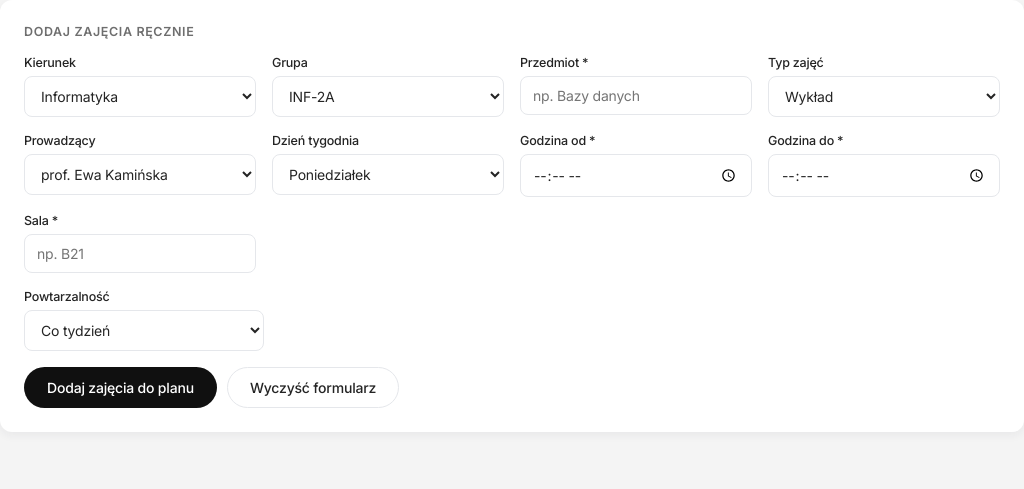
Test: ManualZajeciaForm › 'Wyczyść formularz' resets everything
The image size is (1024, 489).
Select "Ekonomia" in the dropdown labelled "Kierunek" at (140, 96), box [24, 76, 256, 117]
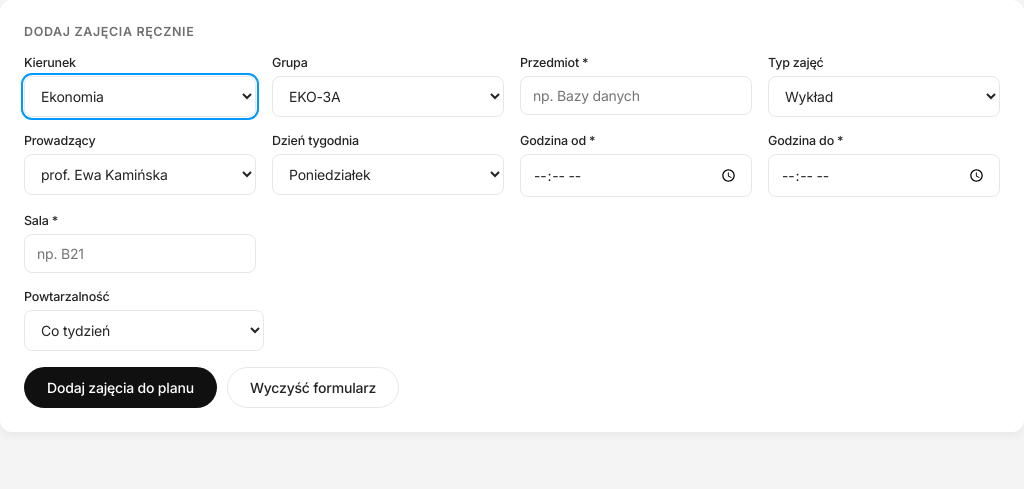
Type "Fizyka" into the field labelled "Przedmiot *".
click(636, 96); type("Fizyka")  # box [520, 76, 752, 115]
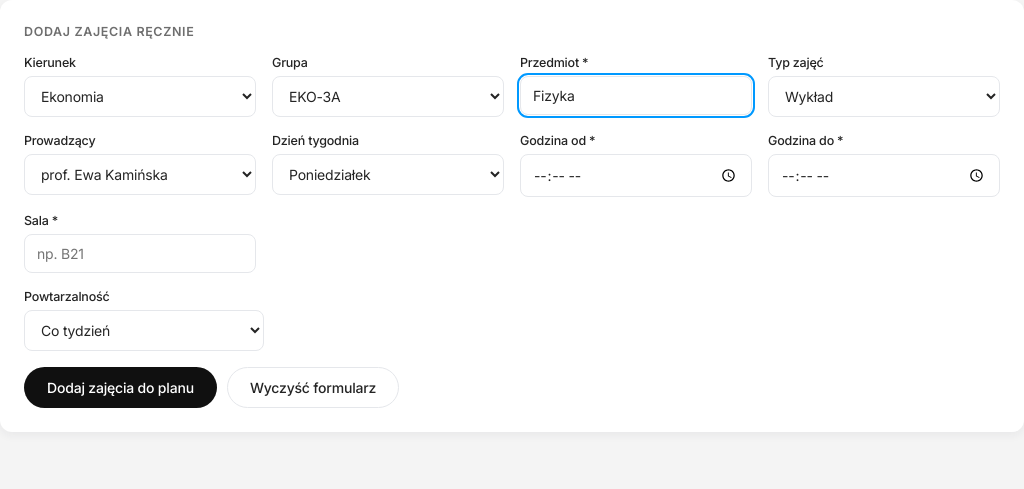
Click the button "Dodaj zajęcia do planu".
click(120, 387)  # box [24, 367, 217, 408]
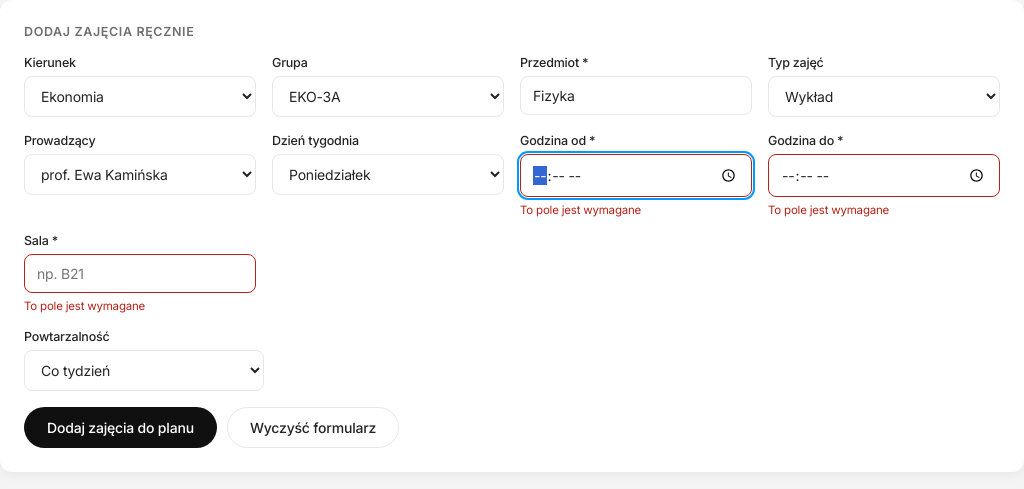
Click the button "Wyczyść formularz".
click(313, 427)  # box [227, 407, 399, 448]
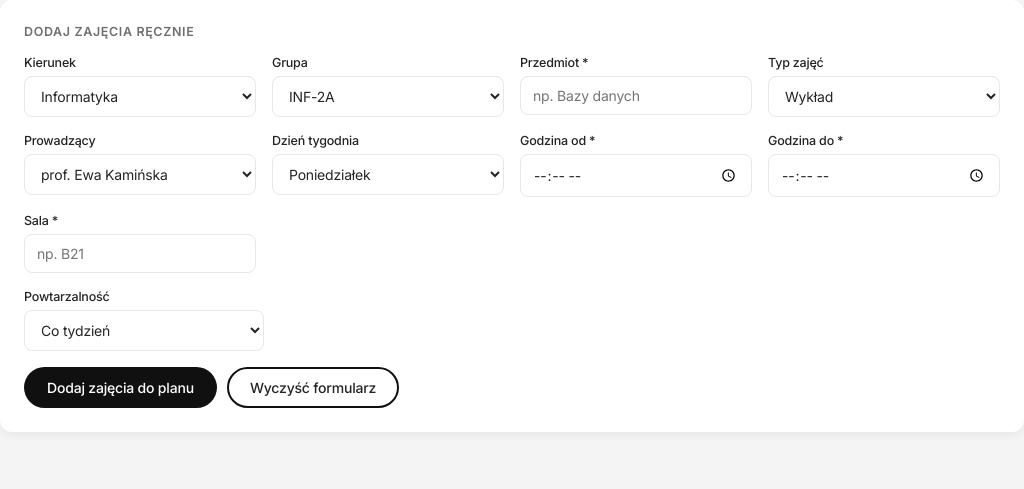
Expected: the dropdown labelled "Kierunek" shows "Informatyka", [24, 76, 256, 117]
Expected: the dropdown labelled "Grupa" shows "INF-2A", [272, 76, 504, 117]
Expected: the field labelled "Przedmiot *" is empty, [520, 76, 752, 115]
